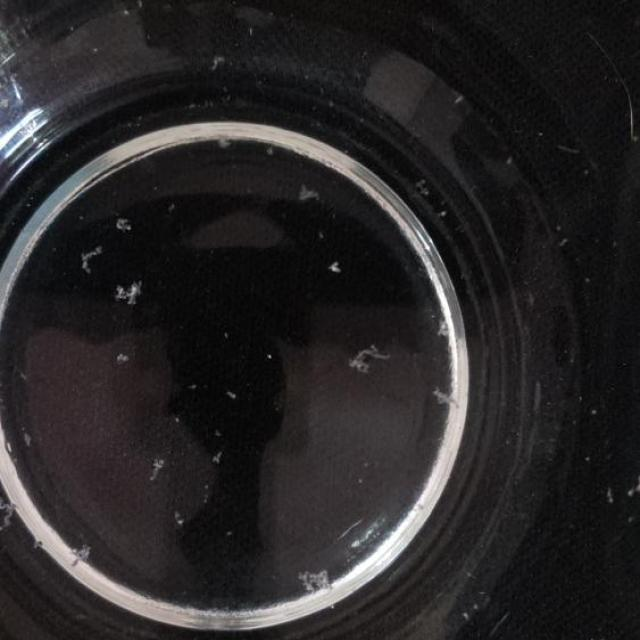fiber: (351, 340, 391, 378), (431, 390, 472, 423), (295, 568, 340, 592), (70, 536, 94, 576), (109, 283, 146, 305), (145, 448, 165, 486), (0, 491, 16, 535), (78, 248, 104, 272), (438, 314, 454, 351), (420, 168, 434, 204), (627, 470, 639, 506), (298, 185, 319, 205), (245, 24, 262, 46), (170, 508, 188, 528), (16, 428, 35, 446), (115, 218, 136, 233), (460, 100, 474, 122), (114, 353, 130, 372), (220, 387, 240, 402), (438, 205, 452, 225), (208, 60, 224, 75), (214, 444, 224, 468), (330, 262, 343, 278), (606, 482, 613, 506), (222, 132, 228, 148)
